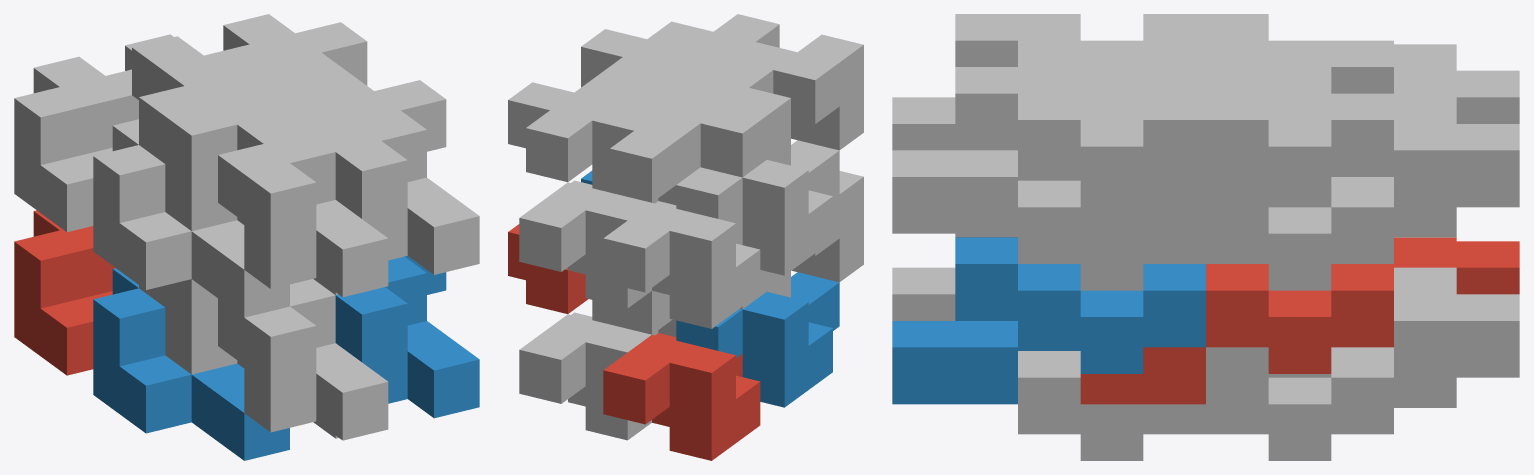
File: tiling.obj
3 renders of one model, left to right at view 1: azimuth 30°, elevation 25°; view 2: azimuth 150°, elevation 25°; view 3: azimuth 270°, elevation 25°, orthographic. The views are drawn at different scales.
Parts seen in each view (by area): view 1: copy_2_domain_4, copy_2_domain_8, copy_2_domain_2, copy_1_domain_4, copy_1_domain_2, copy_2_domain_3, copy_1_domain_3, copy_2_domain_6, copy_1_domain_1, copy_2_domain_7, copy_2_domain_1, copy_1_domain_7; view 2: copy_2_domain_3, copy_1_domain_1, copy_1_domain_3, copy_1_domain_4, copy_2_domain_4, copy_1_domain_2, copy_2_domain_7, copy_1_domain_7, copy_1_domain_5, copy_2_domain_8, copy_2_domain_2, copy_2_domain_5 (+3 smaller); view 3: copy_2_domain_8, copy_2_domain_6, copy_1_domain_5, copy_1_domain_7, copy_2_domain_7, copy_2_domain_5, copy_2_domain_4, copy_1_domain_8, copy_1_domain_6, copy_2_domain_3, copy_1_domain_3, copy_1_domain_1 (+1 smaller).
Boxes of the visible parts, x1,y1,x2,y2 form: copy_2_domain_4: (211,94,388,296); copy_2_domain_8: (302,72,479,274); copy_2_domain_2: (218,279,388,440); copy_1_domain_4: (93,119,289,317); copy_1_domain_2: (93,268,289,460); copy_2_domain_3: (132,36,275,230); copy_1_domain_3: (14,56,131,232); copy_2_domain_6: (335,255,479,418); copy_1_domain_1: (14,210,115,375); copy_2_domain_7: (223,14,367,113); copy_2_domain_1: (139,279,244,374); copy_1_domain_7: (106,34,173,120); copy_2_domain_3: (592,88,790,202); copy_1_domain_1: (603,333,760,460); copy_1_domain_3: (603,201,760,328); copy_1_domain_4: (676,140,839,275); copy_2_domain_4: (665,34,863,150); copy_1_domain_2: (676,272,839,407); copy_2_domain_7: (508,67,706,182); copy_1_domain_7: (519,180,651,308); copy_1_domain_5: (519,312,651,440); copy_2_domain_8: (581,14,779,87); copy_2_domain_2: (792,171,863,282); copy_2_domain_5: (508,224,588,313); copy_2_domain_8: (892,67,1205,233); copy_2_domain_6: (892,237,1205,404); copy_1_domain_5: (1206,267,1519,460); copy_1_domain_7: (1206,97,1519,290); copy_2_domain_7: (1080,67,1393,233); copy_2_domain_5: (1080,264,1393,404); copy_2_domain_4: (892,14,1205,150); copy_1_domain_8: (1018,177,1331,290); copy_1_domain_6: (1018,347,1331,460); copy_2_domain_3: (1143,14,1393,93); copy_1_domain_3: (1394,44,1519,123); copy_1_domain_1: (1394,237,1519,294).
Bounding box in the file's own units: 6 × 6 × 10.
